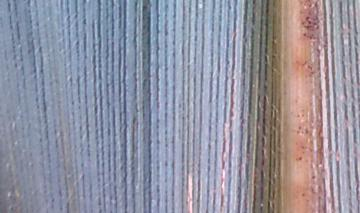tarspot: (304, 15, 313, 28), (305, 63, 314, 71), (303, 126, 309, 135), (308, 34, 314, 42), (297, 155, 303, 162), (310, 174, 316, 180), (296, 124, 302, 130), (295, 129, 301, 134), (302, 31, 307, 37), (300, 192, 305, 197)
